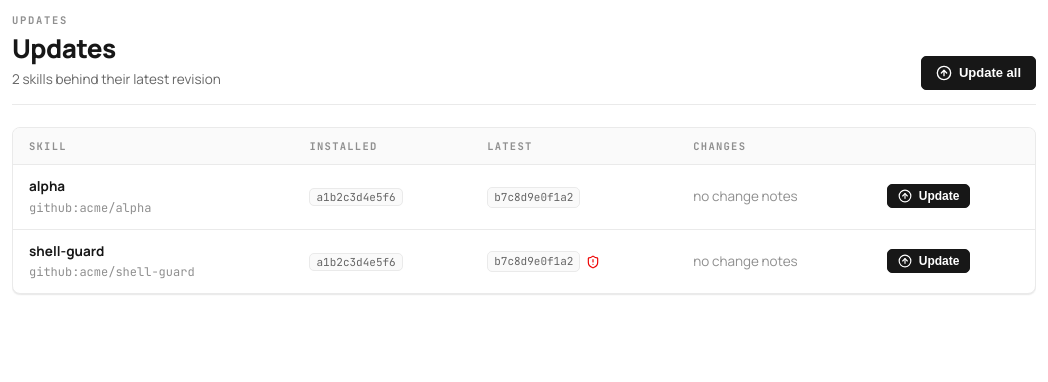
Test: UpdatesPage "Update all" (rendered) › clicking the button puts the failing skill and its API reason on screen
What coordinates should you click on to do the following:
click the button "Update all"
I would click on:
 (978, 73)
Its box is [921,56,1036,90].
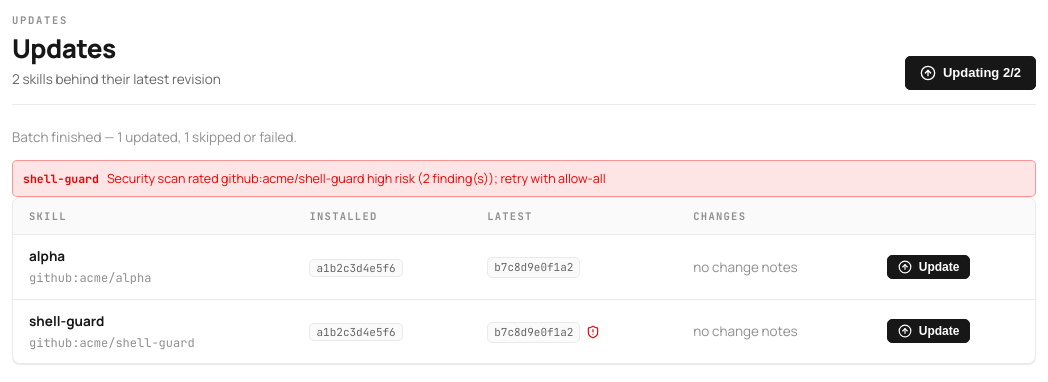
Check: the text "Batch finished — 1 updated, 1 skipped or failed." is shown, box [12,128,297,146]
